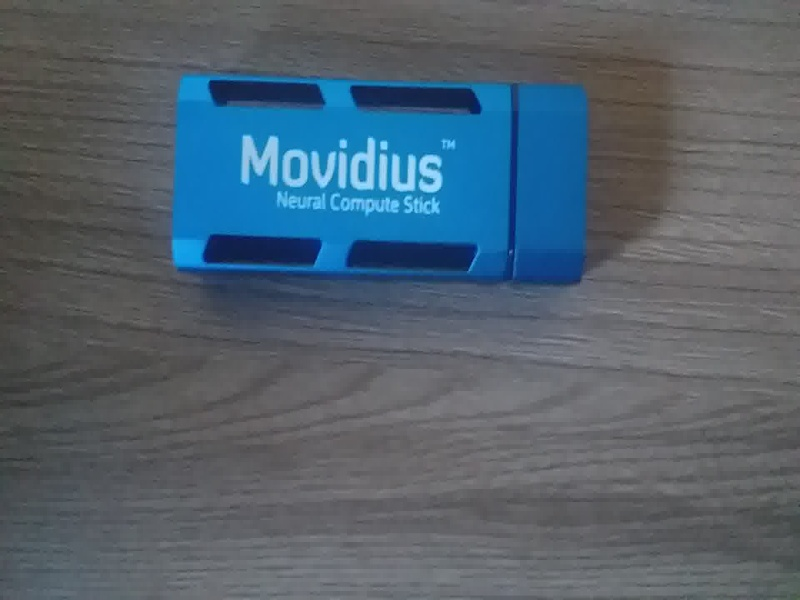movidius: (166, 62, 603, 302)
